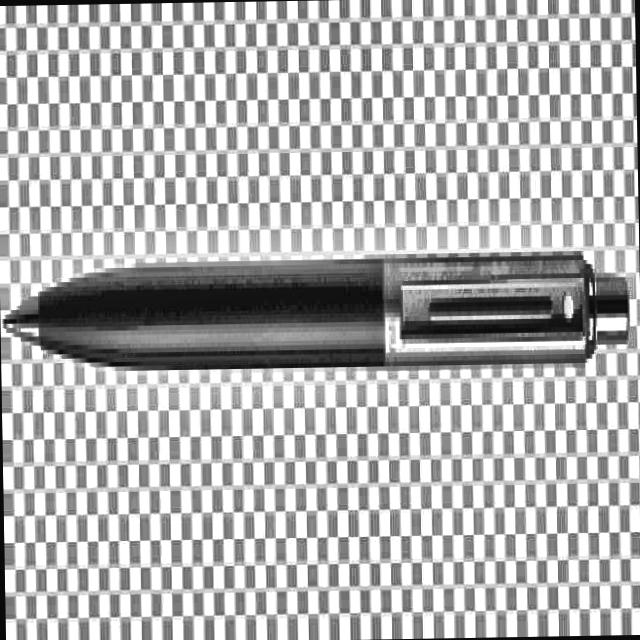Pen: (3, 138, 636, 478)
